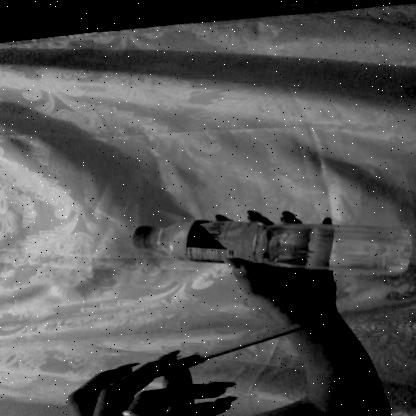Plastic Bottle: (107, 198, 416, 293)
